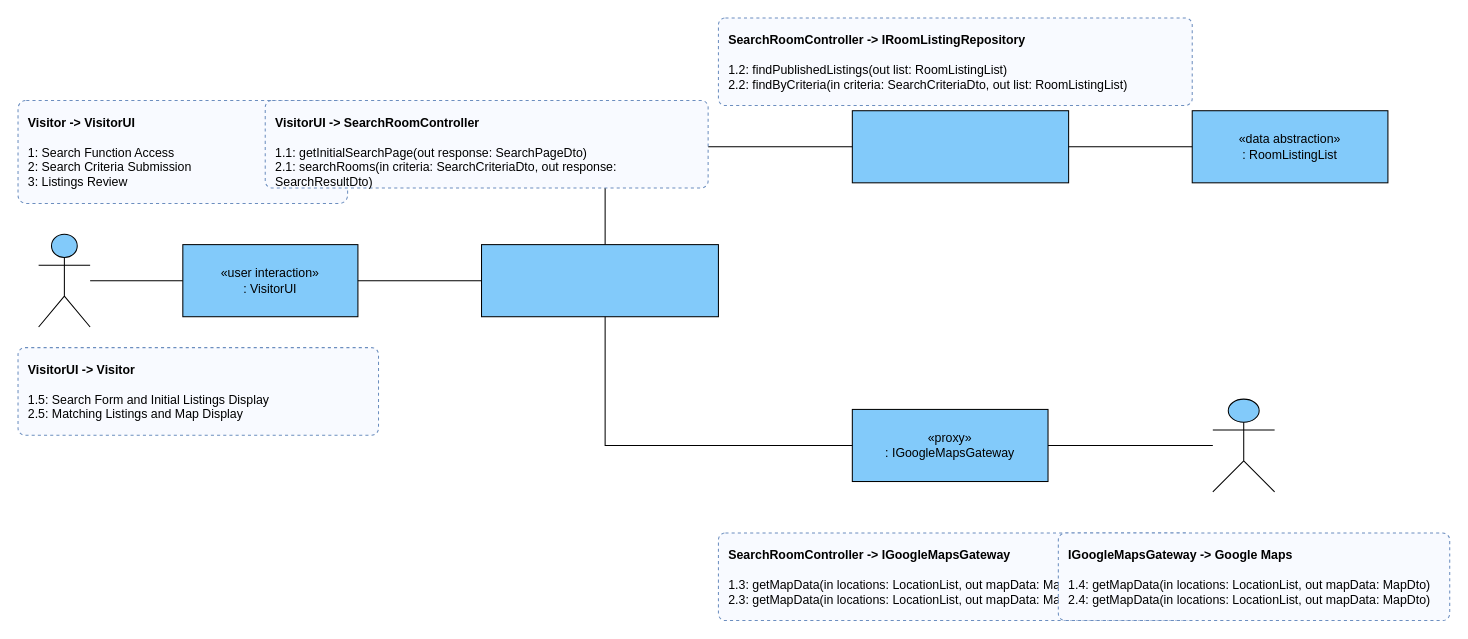
Image size: 1468x639. Some labels were removed from this diagram. Each missing label, with the centre of its shape:
"Google Maps" belongs at point 1243,445.
"Visitor" belongs at point 64,280.
"«coordinator» : SearchRoomController" belongs at point 599,280.
"«database wrapper» : IRoomListingRepository" belongs at point 960,146.
